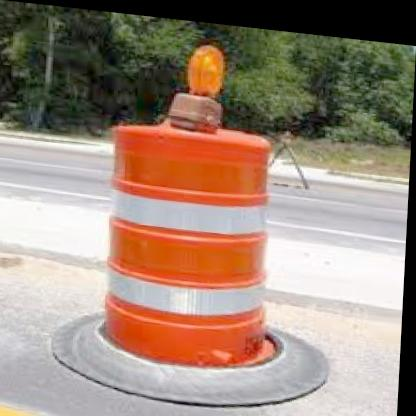obstacle: (93, 112, 305, 375)
